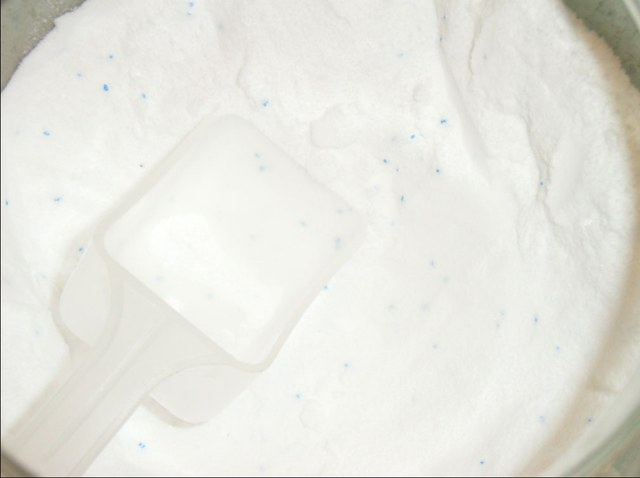Godrej Aer Pocket: (32, 24, 608, 454)
